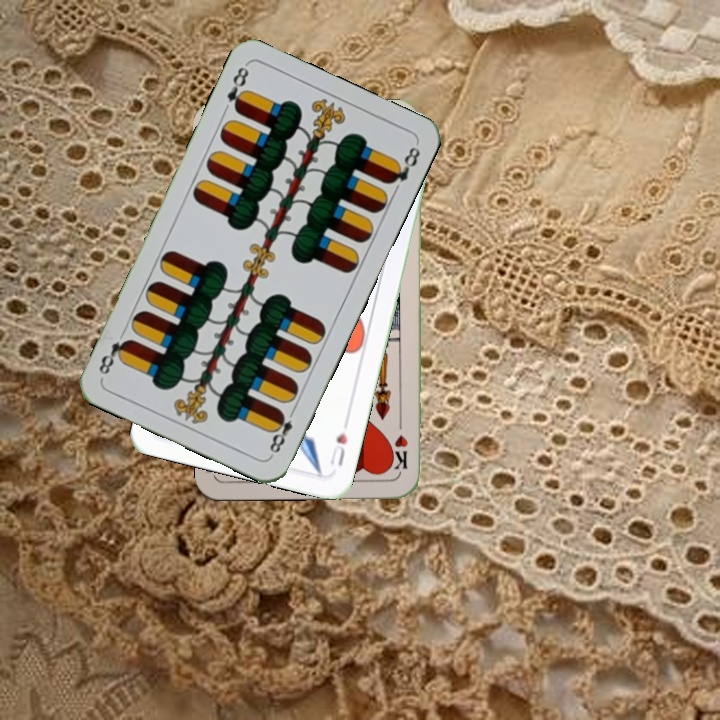E8: (265, 403, 299, 459), (222, 61, 252, 116)
HK: (387, 414, 410, 472)
HU: (325, 428, 350, 469)
